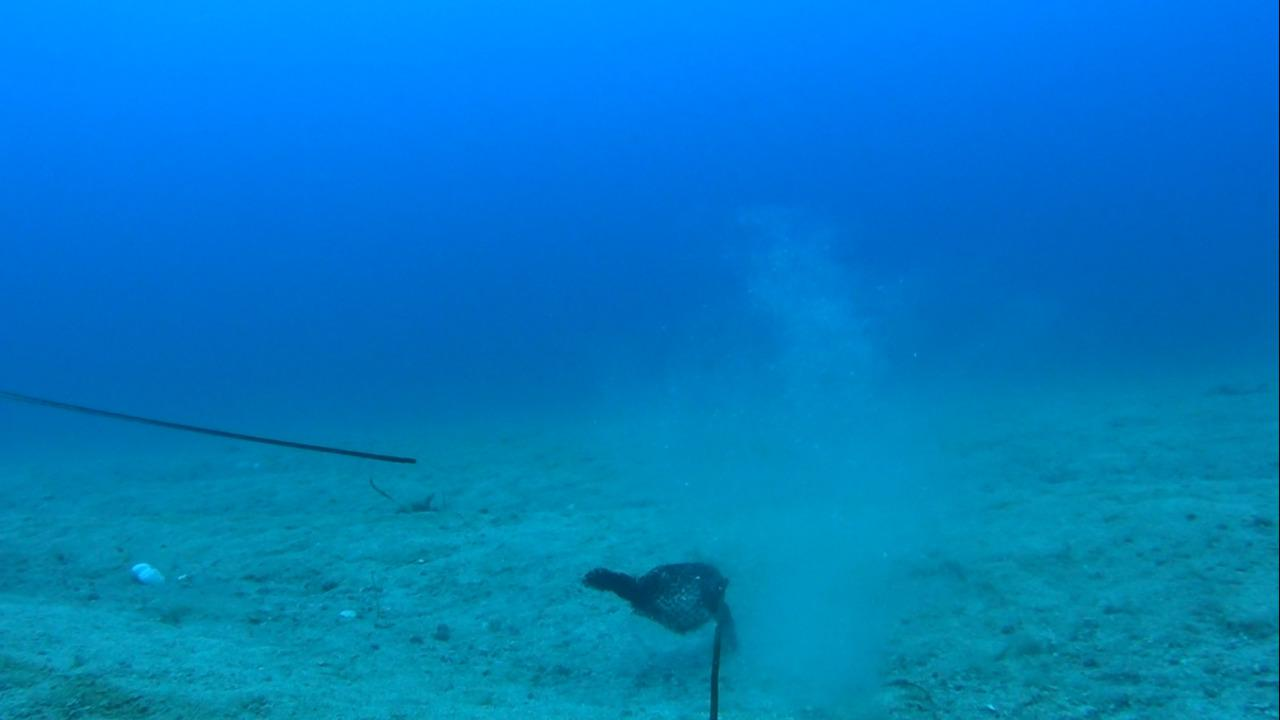myliobatis: (3, 373, 428, 478)
